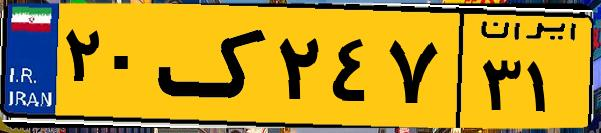0: (110, 28, 158, 98)
1: (525, 38, 570, 115)
2: (270, 28, 330, 110), (57, 26, 110, 100)
3: (475, 38, 525, 113)
4: (330, 28, 385, 110)
7: (385, 28, 445, 110)
ک: (158, 12, 270, 120)
